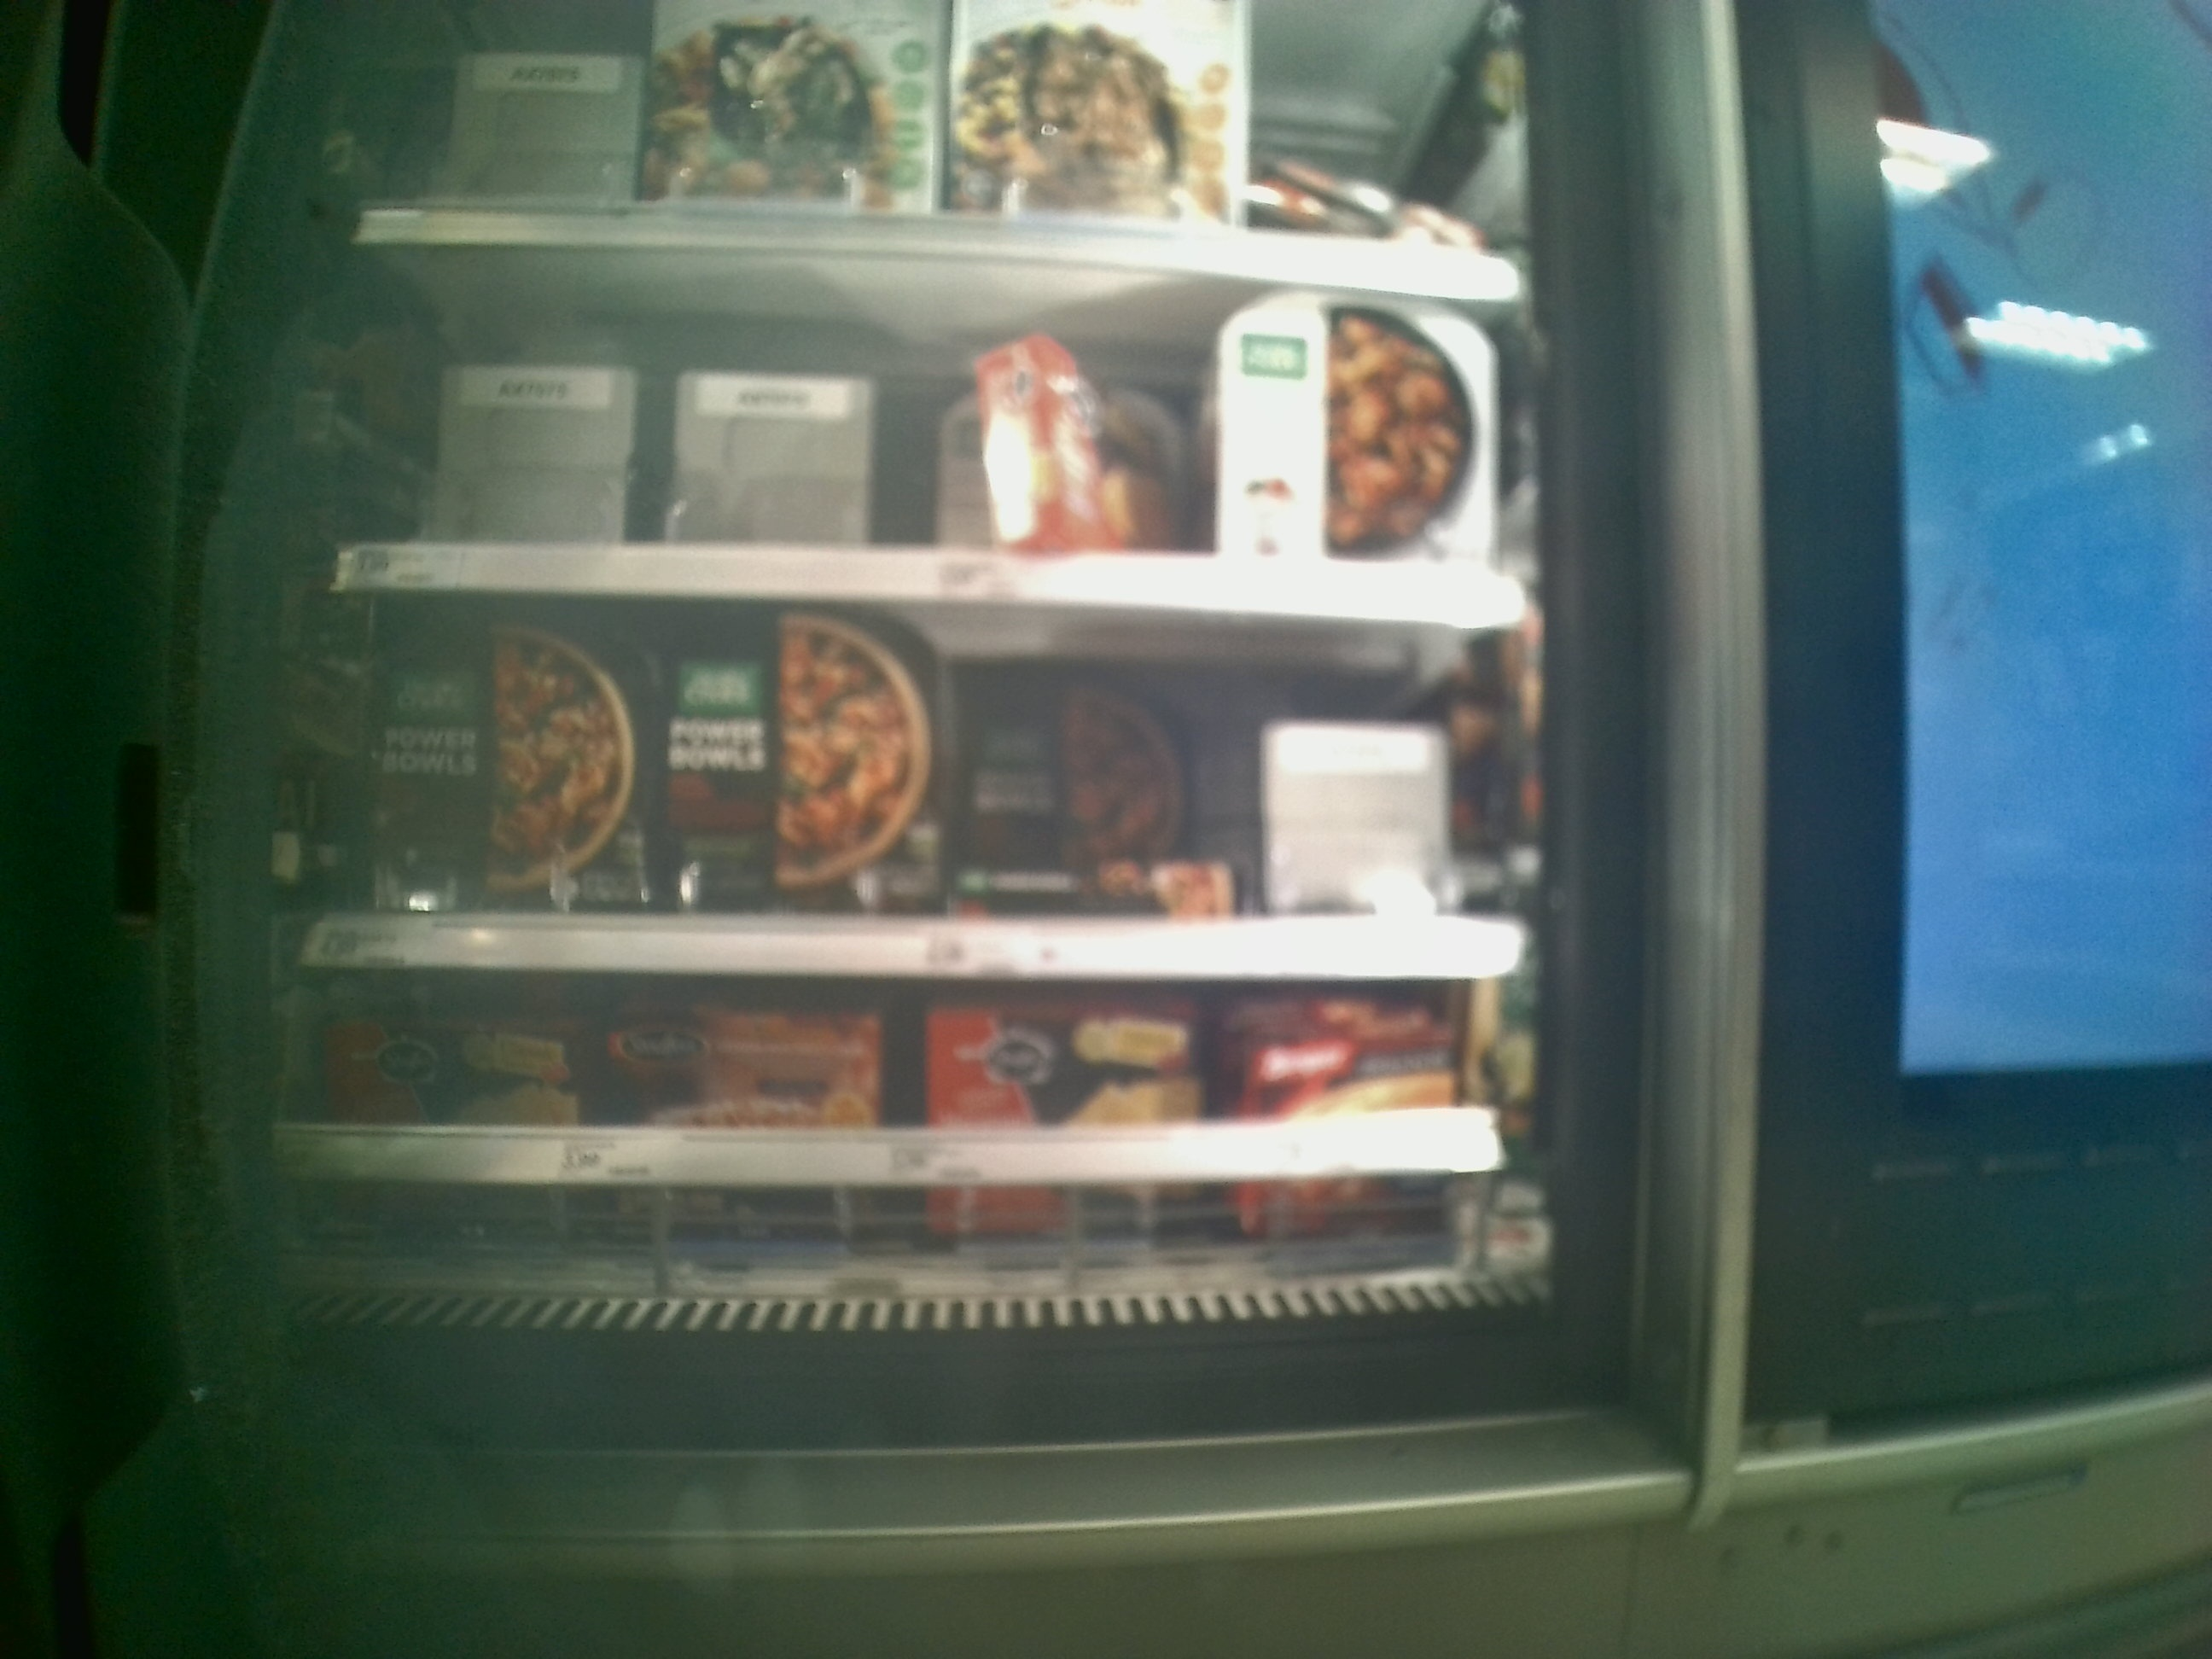shelf: (310, 591, 1548, 983), (331, 230, 1538, 626), (280, 969, 1545, 1338)
